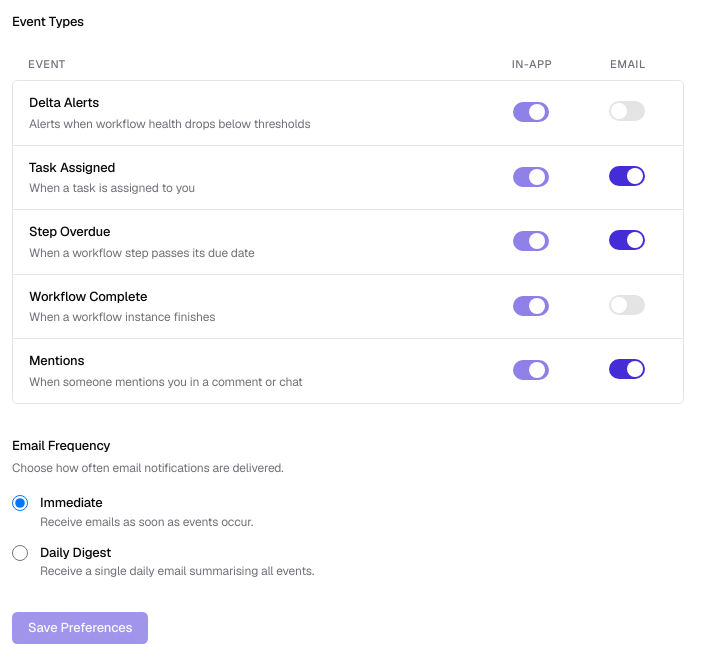
Scenario: NotificationPreferencesPanel › shows error when save fails
This screenshot has width=701, height=661.
Expected: the text "Delta Alerts" is shown, left=29, top=94, right=99, bottom=111
Click the switch named "email notifications for delta alerts". click: (627, 111)
box: left=609, top=101, right=645, bottom=121
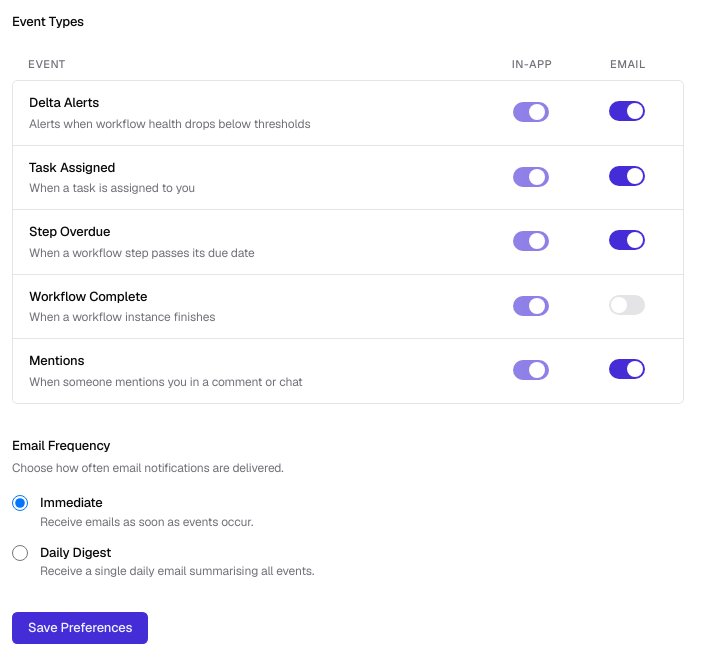
Click the button "Save Preferences". click: (80, 628)
box: left=12, top=612, right=148, bottom=644
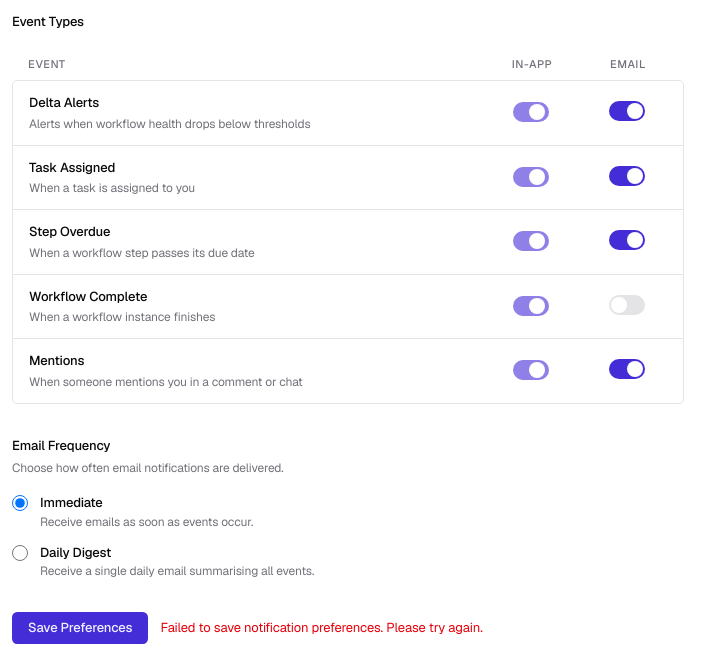
Result: the text "Failed to save notification preferences. Please try again." is shown at left=160, top=618, right=483, bottom=638
